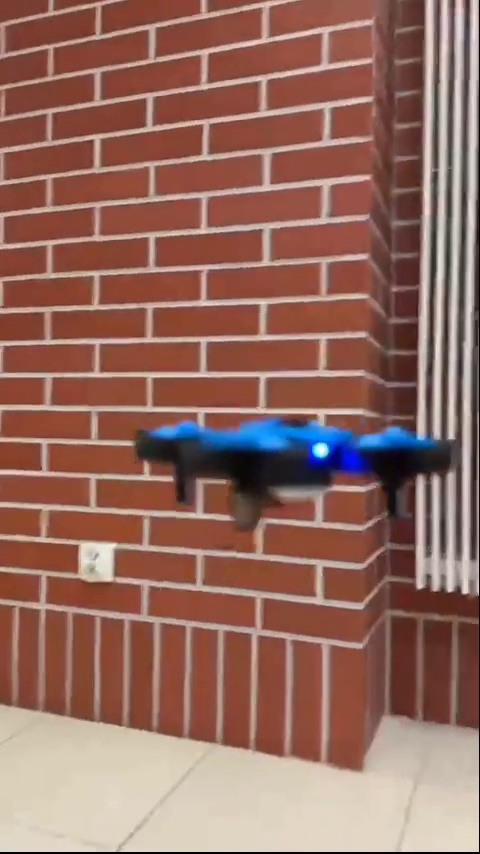drone: (135, 415, 457, 523)
